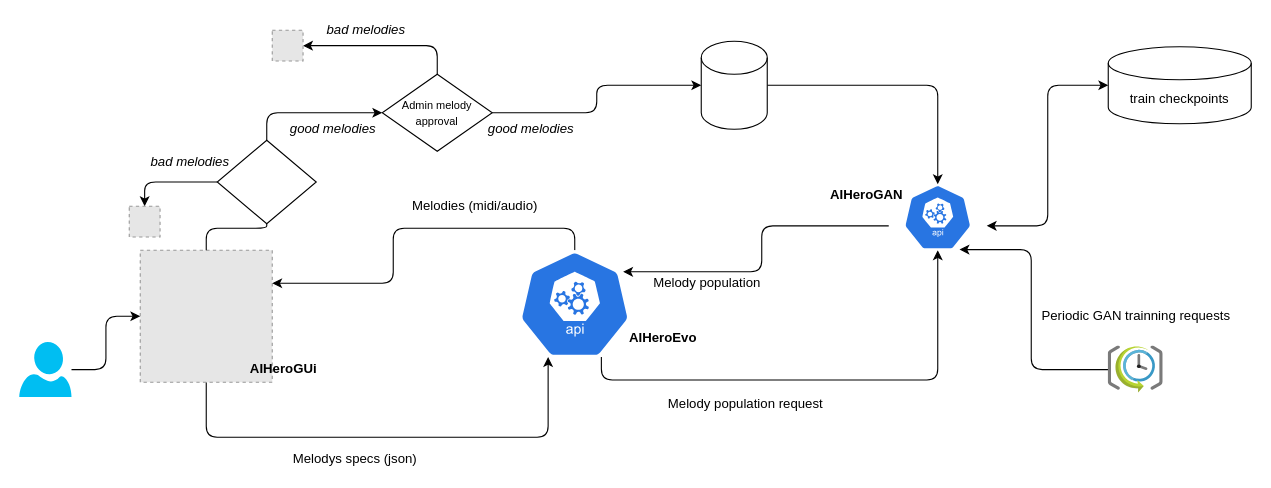
The diagram is 1271 pixels wide and 488 high, and some of its shapes have lost their labels. Grey dashed boxes stand in for pictures. The box of each missing label's shape, as (x1, y1, x2, y2) in pixels:
train data: (700, 40, 767, 129)
User melody approval: (216, 139, 316, 224)
